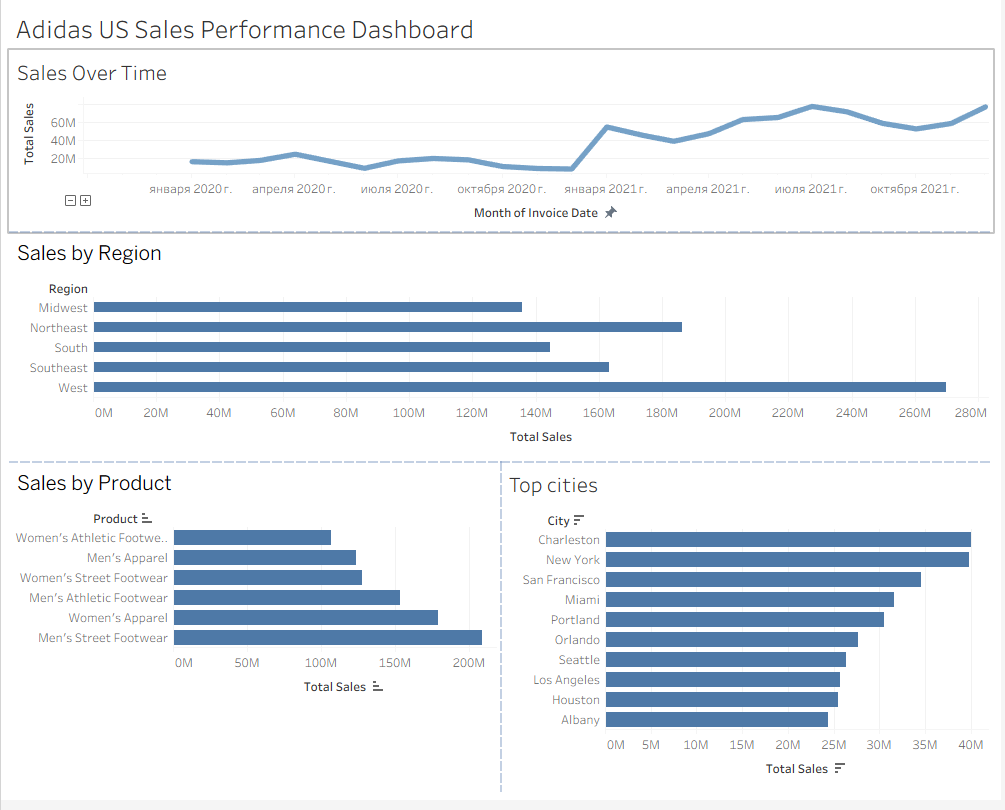

The dashboard page shown, as its layout file describes it:
{"tool":"tableau","page":{"name":"Dashboard 1","canvas":[1000,800],"ordinal":0},"visuals":[{"type":"title","box":[8,8,984,42]},{"type":"worksheet","title":"Sales Over Time","mark":"Automatic","rows":["Total Sales"],"cols":["Invoice Date"],"box":[8,50,984,182]},{"type":"worksheet","title":"Sales by Region","mark":"Automatic","rows":["Region"],"cols":["Total Sales"],"box":[8,232,984,230]},{"type":"worksheet","title":"Sales by Product","mark":"Automatic","rows":["Product"],"cols":["Total Sales"],"box":[8,462,492,330]},{"type":"worksheet","title":"Top Cities","mark":"Automatic","rows":["City"],"cols":["Total Sales"],"box":[500,462,492,330]}]}

Visuals, with their boxes in screenshot pixels (x1, y1, x2, y2), scaled from the page's 1000x800 canvas onto the 1005x810 screenshot:
title: <bbox>8, 8, 997, 51</bbox>
"Sales Over Time" worksheet: <bbox>8, 51, 997, 235</bbox>
"Sales by Region" worksheet: <bbox>8, 235, 997, 468</bbox>
"Sales by Product" worksheet: <bbox>8, 468, 502, 802</bbox>
"Top Cities" worksheet: <bbox>502, 468, 997, 802</bbox>
